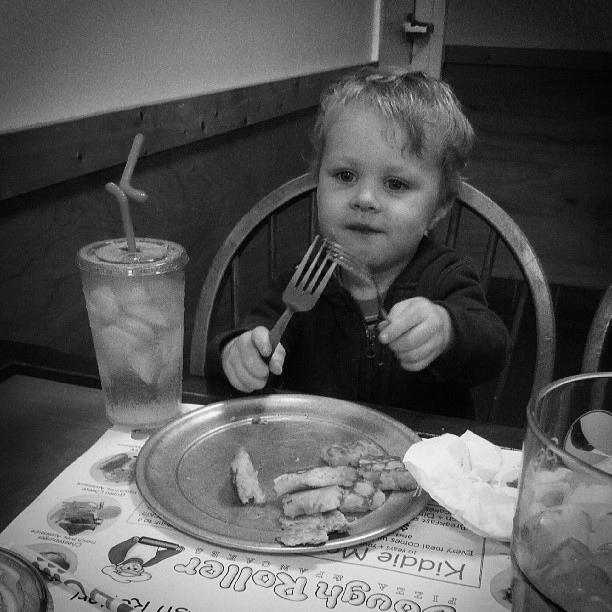glass: (78, 135, 187, 428)
